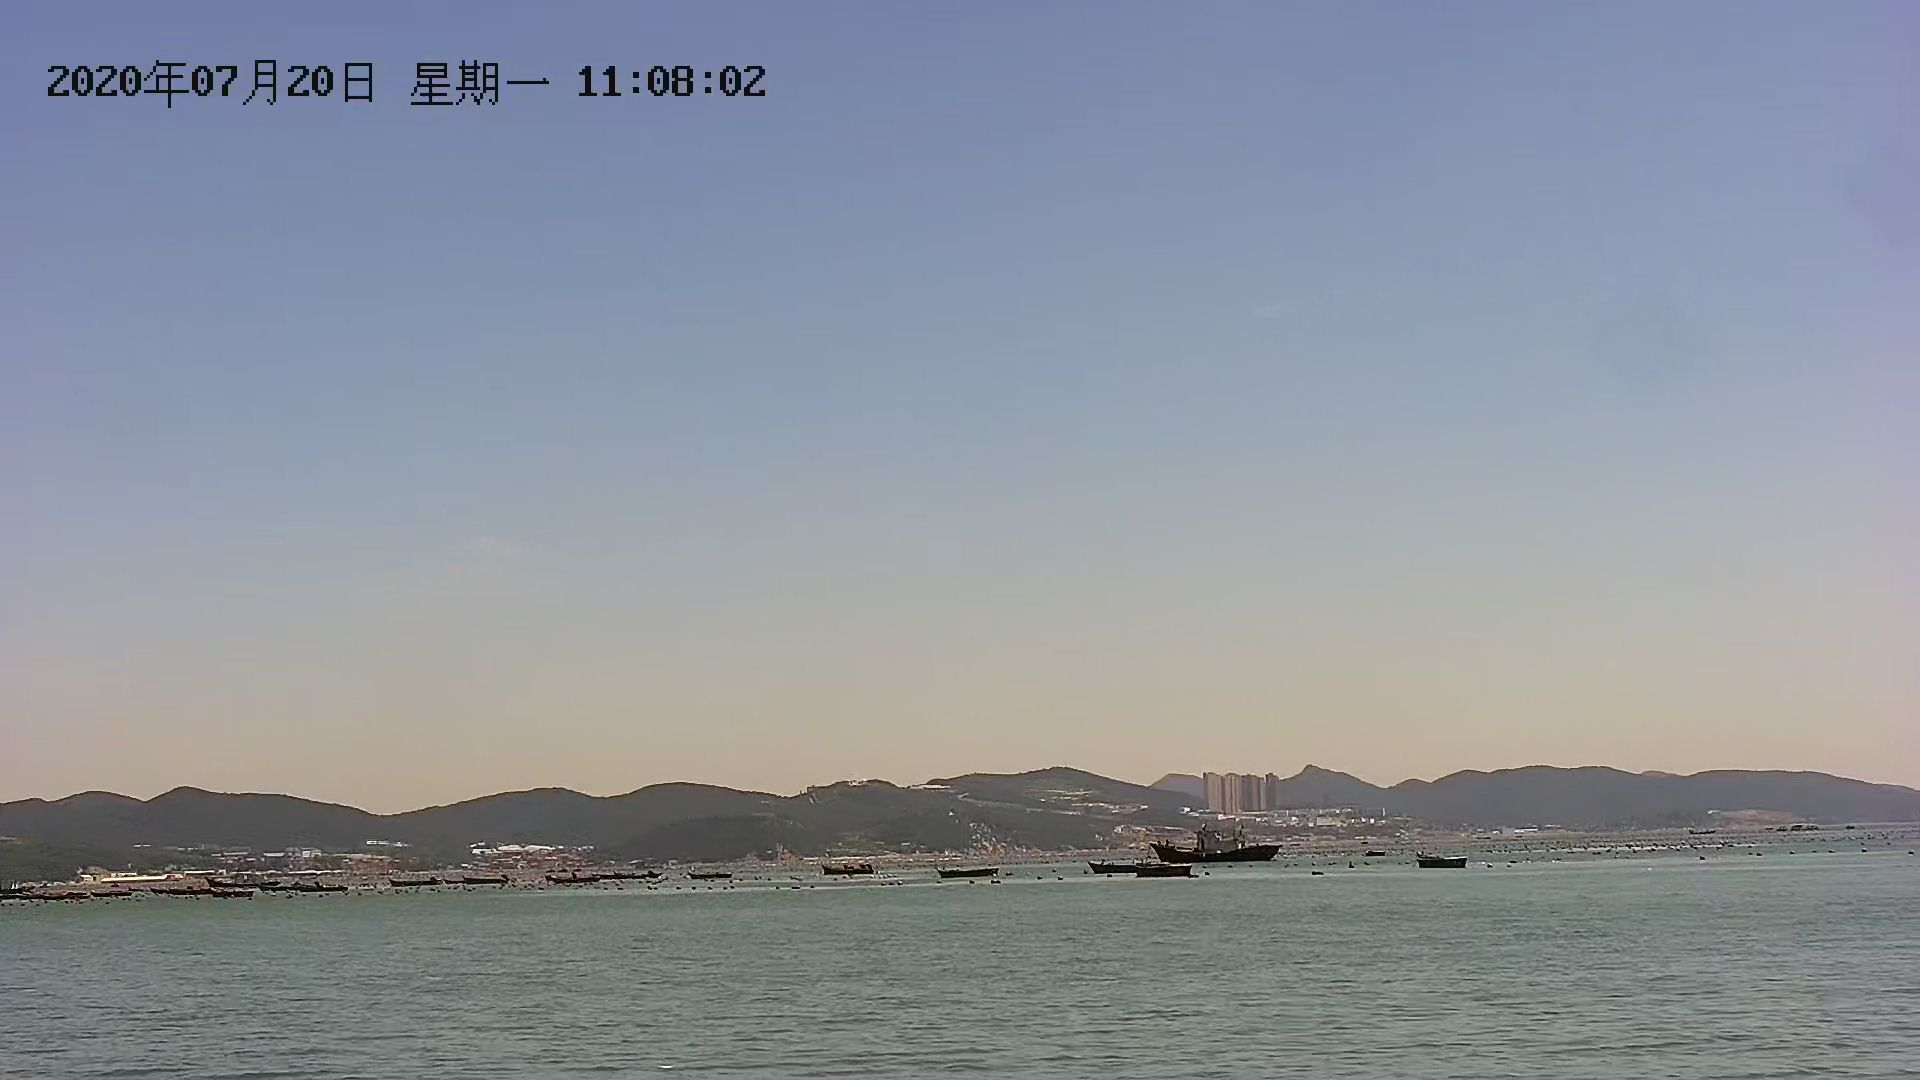boat: (1160, 827, 1280, 862), (1089, 861, 1200, 880), (1410, 848, 1477, 872), (819, 862, 881, 880), (938, 864, 1004, 880)
